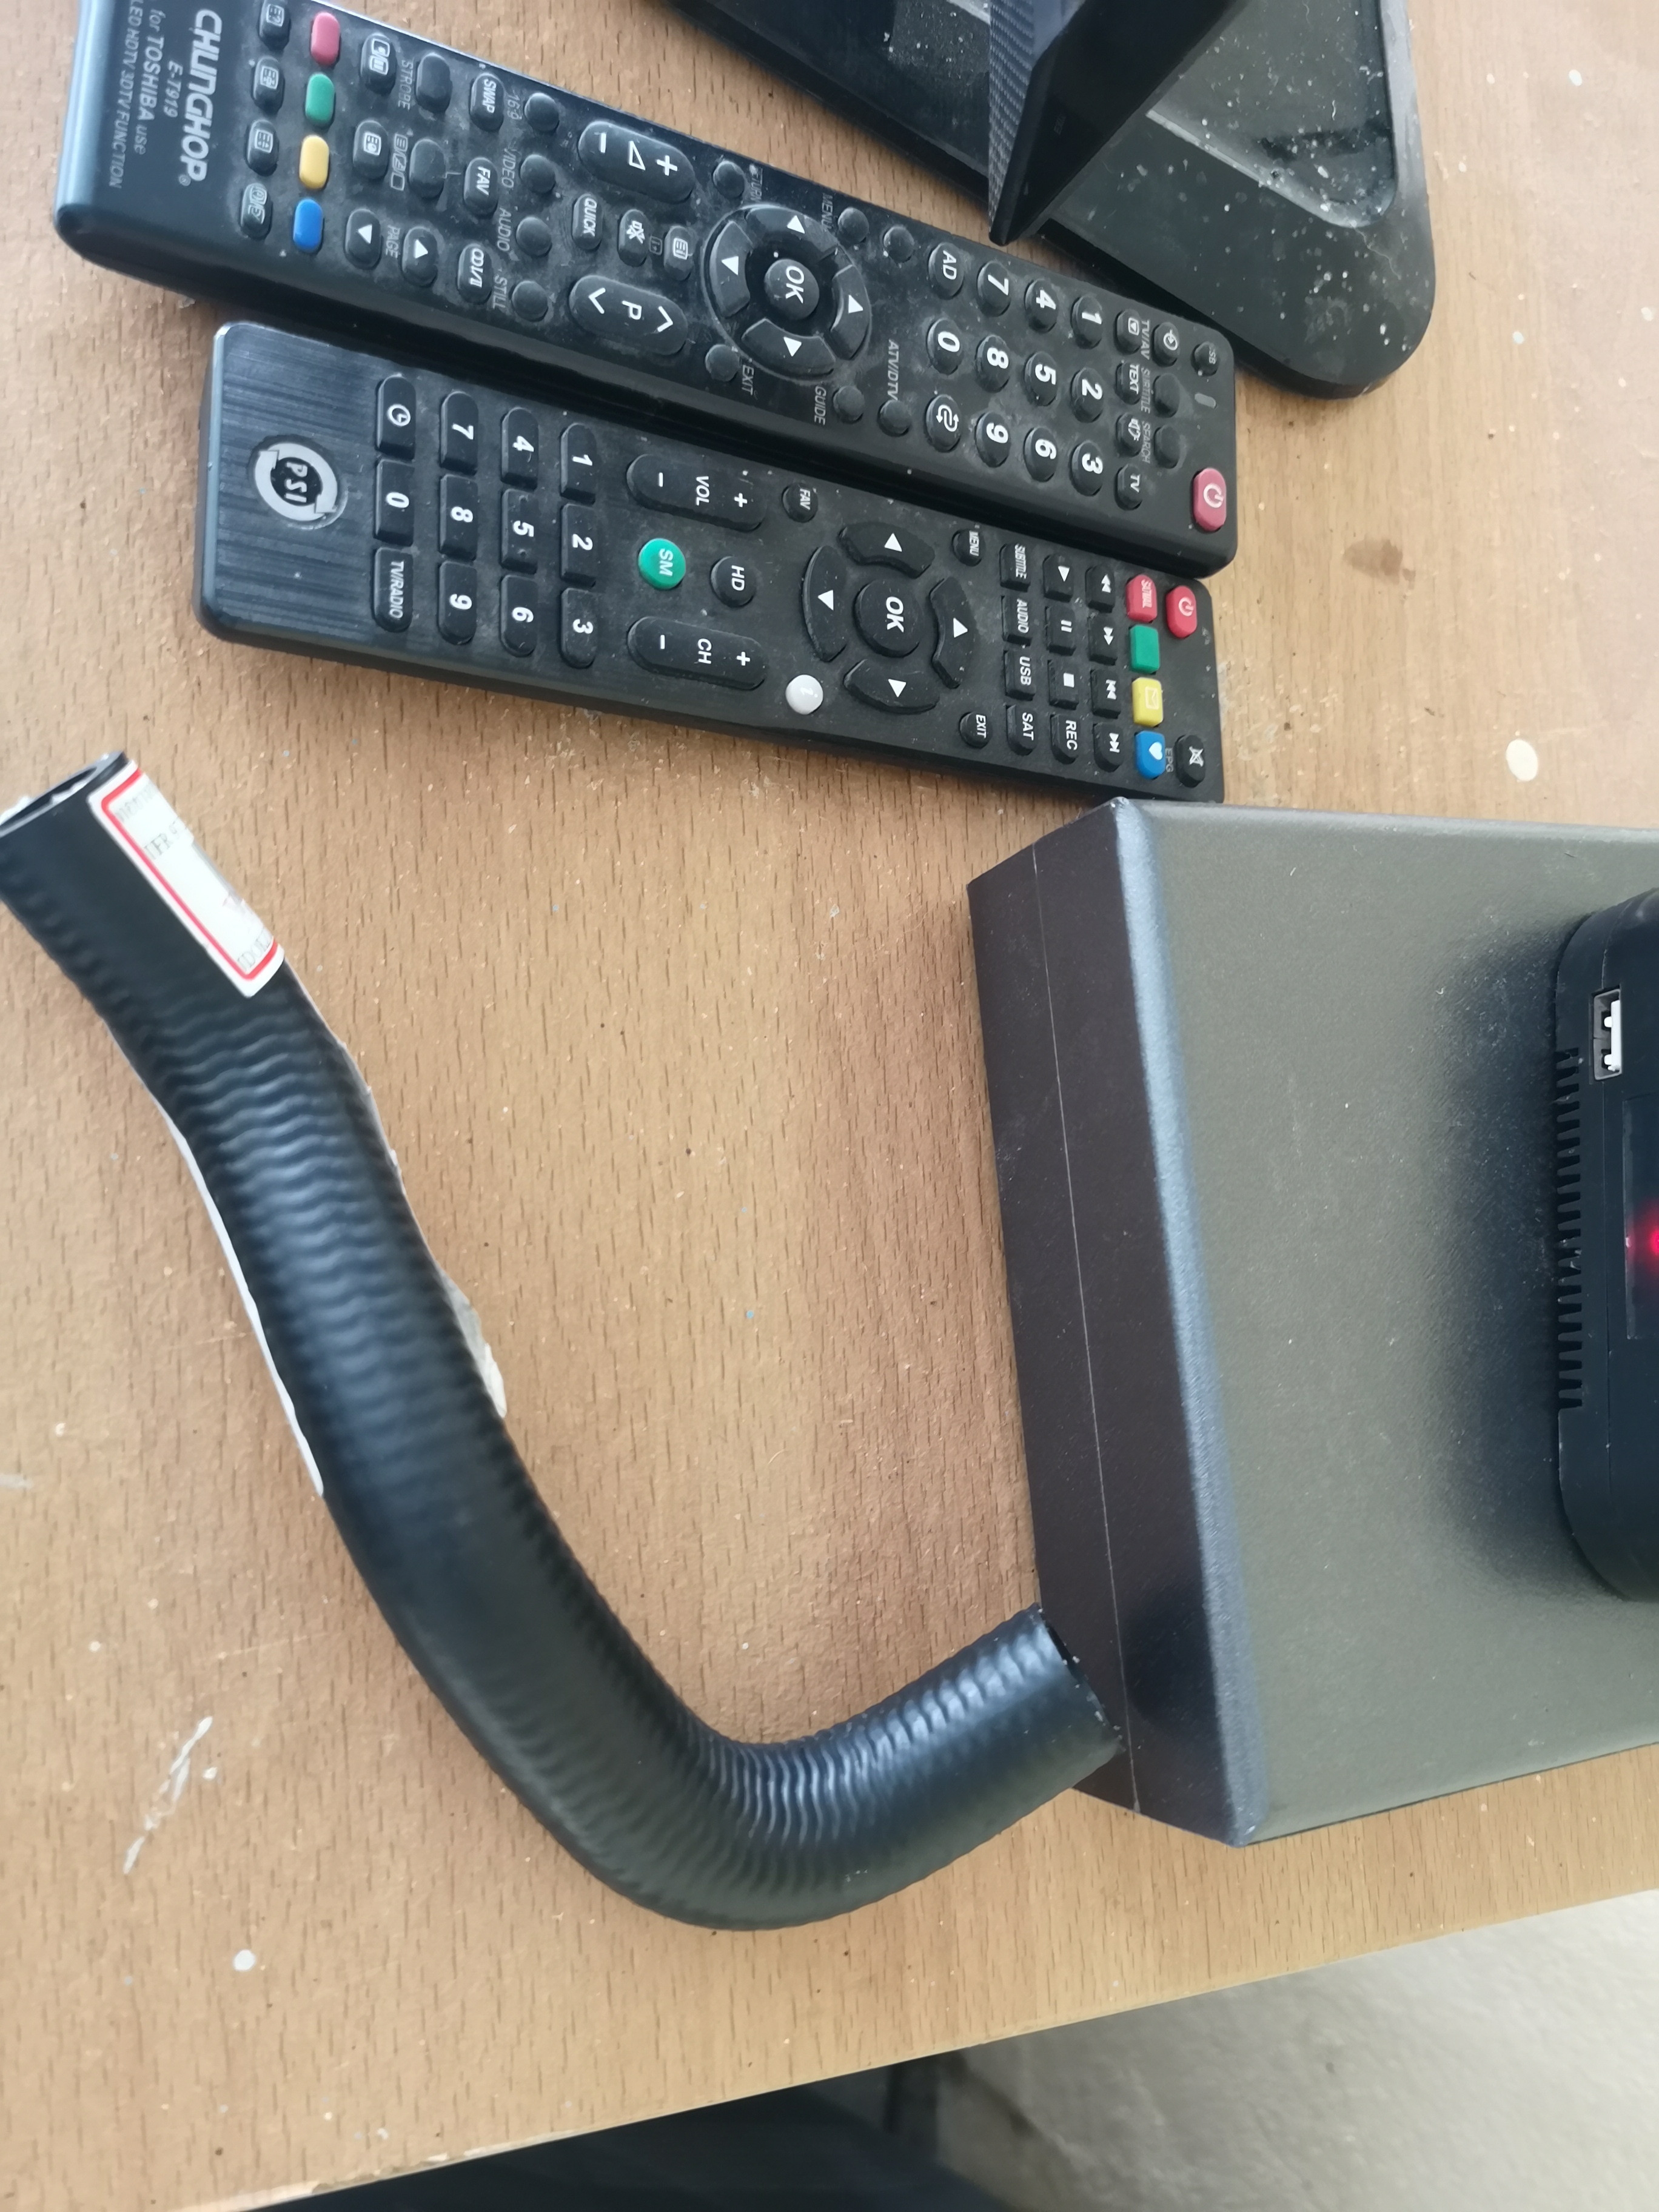ท่อยางน้ำมันเลี้ยงเทอร์โบ: (3, 672, 1138, 1989)
